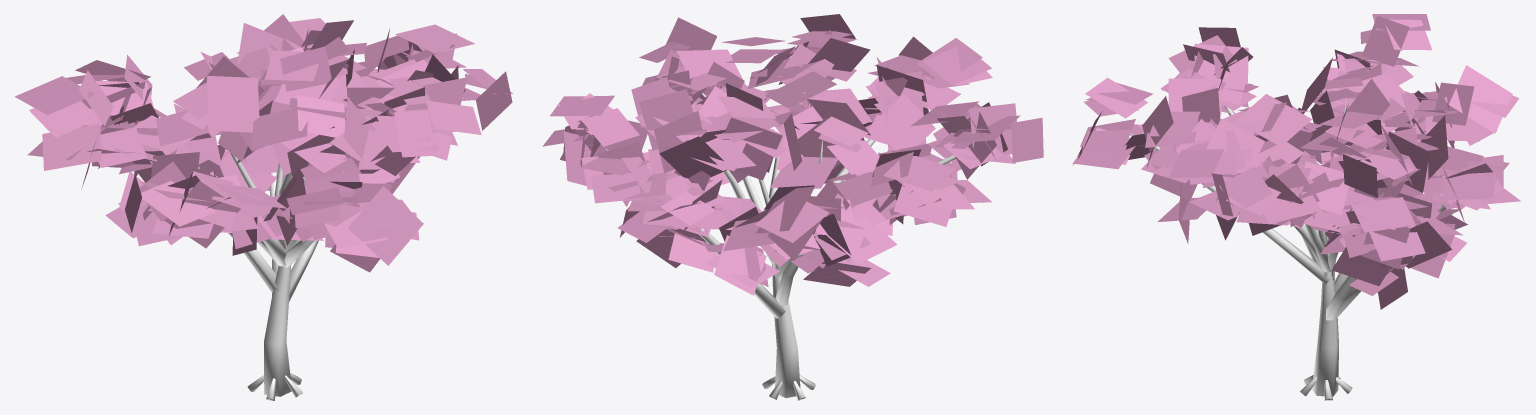
The model's file is SM_Sakura_Hero_LOD2.fbx.
The picture shows the model from 3 angles, left to right: view 1: azimuth 30°, elevation 25°; view 2: azimuth 150°, elevation 25°; view 3: azimuth 270°, elevation 25°; orthographic projection. The views are drawn at different scales.
Parts seen in each view (by area): view 1: SM_Sakura_Hero_LOD2; view 2: SM_Sakura_Hero_LOD2; view 3: SM_Sakura_Hero_LOD2.
Boxes of the visible parts, x1,y1,x2,y2 form: SM_Sakura_Hero_LOD2: (14,14,512,400); SM_Sakura_Hero_LOD2: (542,14,1043,400); SM_Sakura_Hero_LOD2: (1072,14,1520,400).
Bounding box in the file's own units: 10.15 × 9.73 × 7.42.
